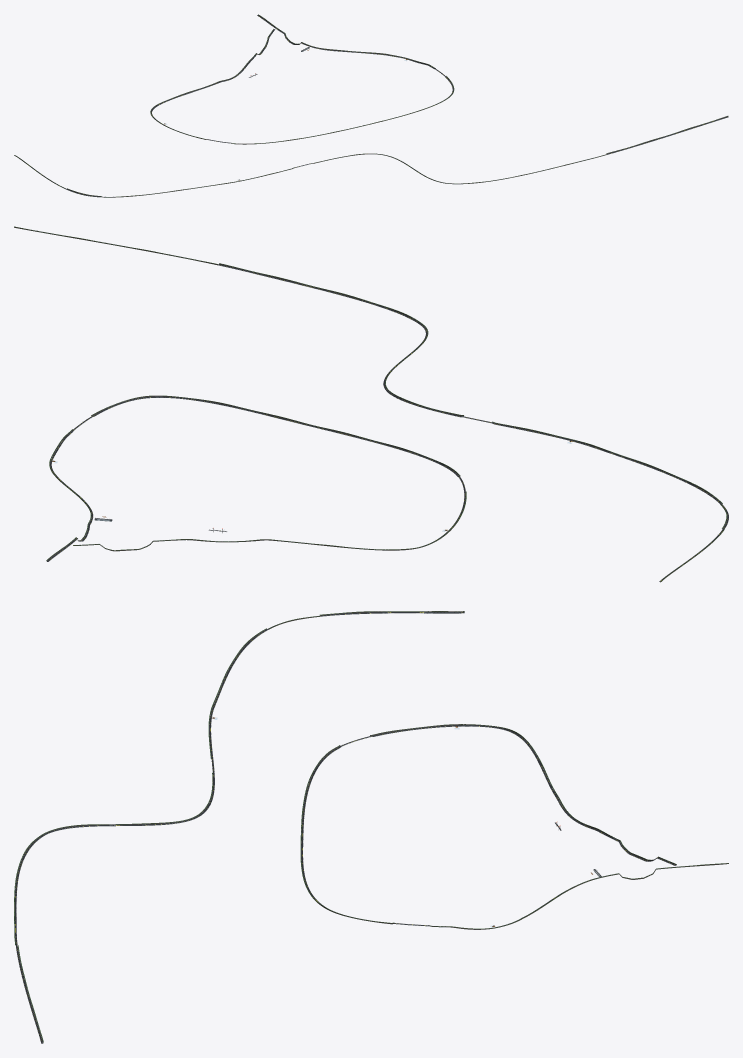
The model's file is dap_tran_cau_day_vang_va_deo_ven_ho_tuyen_lam.glb.
3 views of the same model, one above another, from view 1: azimuth 30°, elevation 25°; view 2: azimuth 150°, elevation 25°; view 3: azimuth 270°, elevation 25° (orthographic). The views are drawn at different scales.
Visible parts, largest first — view 1: TuyenLam_Pinhatt_Rock_Cliffs, TuyenLam_Split_Granite_Taluy_And_Spillway_Dam, TuyenLam_Asphalt_Carriageway, TuyenLam_Pine_Forest_Moss_Benches; view 2: TuyenLam_Split_Granite_Taluy_And_Spillway_Dam, TuyenLam_Pinhatt_Rock_Cliffs, TuyenLam_Asphalt_Carriageway, TuyenLam_Pine_Forest_Moss_Benches; view 3: TuyenLam_Asphalt_Carriageway, TuyenLam_Split_Granite_Taluy_And_Spillway_Dam, TuyenLam_Pinhatt_Rock_Cliffs, TuyenLam_Pine_Forest_Moss_Benches.
Part boxes in pixels (<box>): TuyenLam_Pinhatt_Rock_Cliffs: <box>14,14,727,197</box>; TuyenLam_Split_Granite_Taluy_And_Spillway_Dam: <box>65,15,727,197</box>; TuyenLam_Asphalt_Carriageway: <box>15,15,728,196</box>; TuyenLam_Pine_Forest_Moss_Benches: <box>14,14,726,197</box>; TuyenLam_Split_Granite_Taluy_And_Spillway_Dam: <box>16,228,728,561</box>; TuyenLam_Pinhatt_Rock_Cliffs: <box>14,227,726,581</box>; TuyenLam_Asphalt_Carriageway: <box>34,230,728,582</box>; TuyenLam_Pine_Forest_Moss_Benches: <box>14,226,726,581</box>; TuyenLam_Asphalt_Carriageway: <box>15,612,681,1043</box>; TuyenLam_Split_Granite_Taluy_And_Spillway_Dam: <box>14,612,726,1043</box>; TuyenLam_Pinhatt_Rock_Cliffs: <box>14,611,728,1042</box>; TuyenLam_Pine_Forest_Moss_Benches: <box>14,611,728,1042</box>.
Bounding box in the file's own units: 7713 × 169 × 5416.
